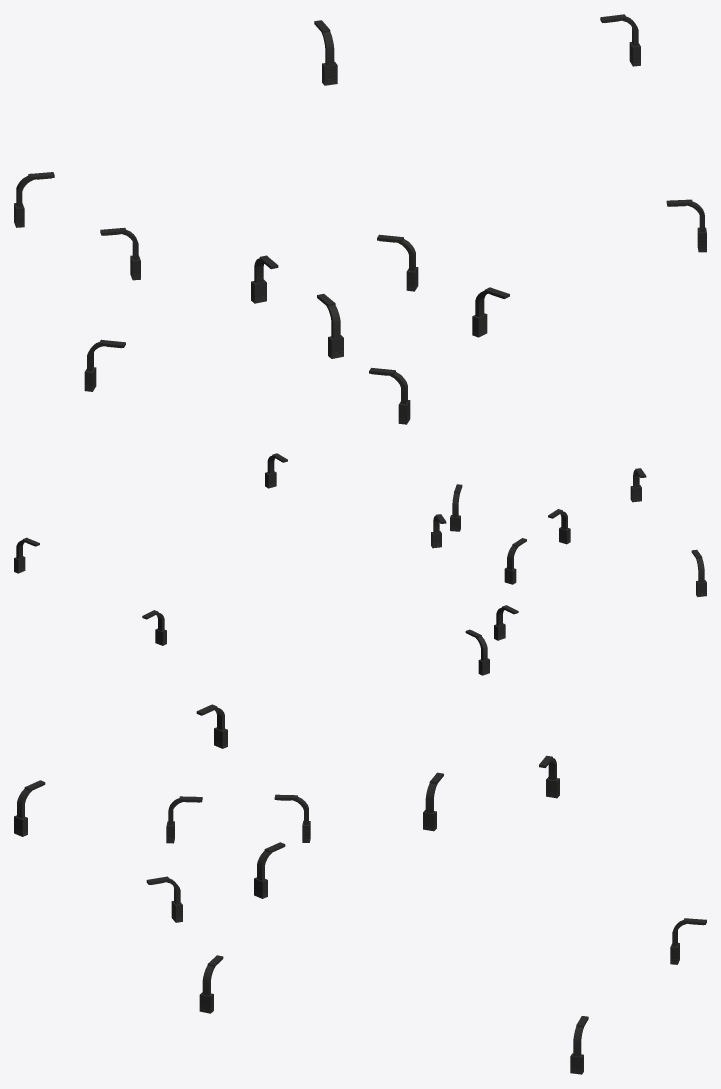
Rendered from building_streetlights.gltf.
The picture shows the model from 3 angles, top to bottom: view 1: azimuth 30°, elevation 25°; view 2: azimuth 150°, elevation 25°; view 3: azimuth 270°, elevation 25°; orthographic projection. The views are drawn at different scales.
Visible parts, largest first — view 1: street_light1, street_light6, street_light7, street_light3, street_light9, street_light2, street_light10, street_light4; view 2: street_light3, street_light4, street_light10, street_light7, street_light11, street_light5, street_light12, street_light6, street_light1; view 3: street_light11, street_light2, street_light9, street_light5, street_light12.
Part boxes in pixels (<box>): street_light1: <box>317,294,343,358</box>; street_light6: <box>314,20,337,85</box>; street_light7: <box>472,287,509,337</box>; street_light3: <box>251,255,278,303</box>; street_light9: <box>369,367,410,424</box>; street_light2: <box>377,234,418,291</box>; street_light10: <box>84,339,125,391</box>; street_light4: <box>14,172,54,227</box>; street_light3: <box>504,538,526,584</box>; street_light4: <box>465,629,489,675</box>; street_light10: <box>691,549,706,597</box>; street_light7: <box>450,484,462,531</box>; street_light11: <box>265,453,287,488</box>; street_light5: <box>494,605,518,640</box>; street_light12: <box>14,537,39,573</box>; street_light6: <box>142,610,166,645</box>; street_light1: <box>548,509,570,544</box>; street_light11: <box>199,955,223,1013</box>; street_light2: <box>254,842,285,898</box>; street_light9: <box>14,780,45,836</box>; street_light5: <box>423,772,443,831</box>; street_light12: <box>570,1016,588,1074</box>.
Size of the model in its own units: 10.35 by 0.8513 by 9.2.
2 materials, 2 textured.
